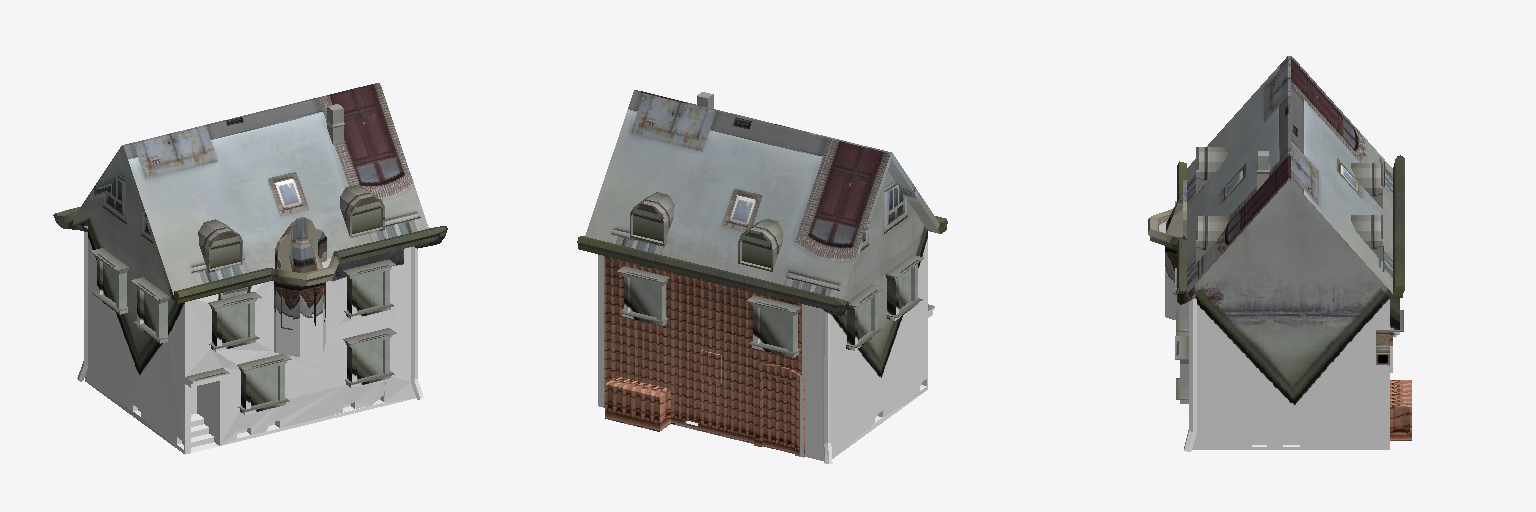
3 views of the same model, side by side, from view 1: azimuth 30°, elevation 25°; view 2: azimuth 150°, elevation 25°; view 3: azimuth 270°, elevation 25° (orthographic).
Parts seen in each view (by area): view 1: house_Cube.002; view 2: house_Cube.002; view 3: house_Cube.002.
Part boxes in pixels (x1,y1,x2,y2): house_Cube.002: (53,83,447,454); house_Cube.002: (577,90,947,463); house_Cube.002: (1148,56,1411,451).
Size of the model in its own units: 3.15 by 2.94 by 2.55.
Materials: 1 (1 with a texture image).